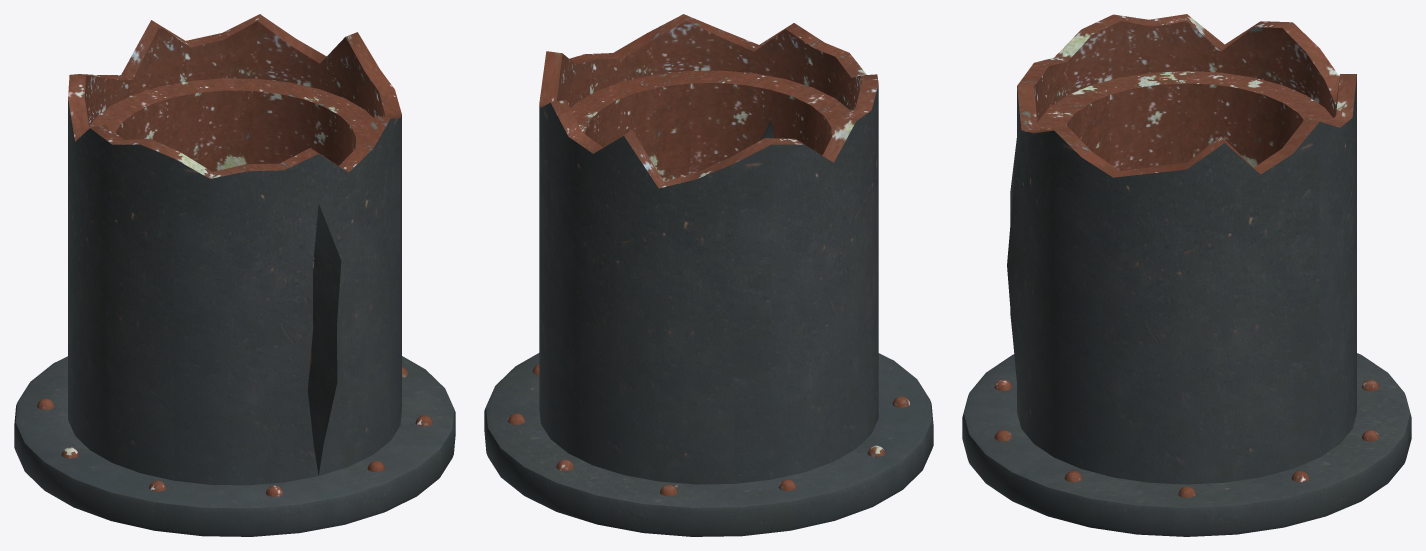
File: Powerplant_Model_Environment_BrokenStraightPipeTextured.fbx
3 renders of one model, left to right at view 1: azimuth 30°, elevation 25°; view 2: azimuth 150°, elevation 25°; view 3: azimuth 270°, elevation 25°, orthographic.
Parts seen in each view (by area): view 1: Straight Pipe; view 2: Straight Pipe; view 3: Straight Pipe.
Part boxes in pixels (left/top/right/bottom): Straight Pipe: left=14, top=14, right=455, bottom=536; Straight Pipe: left=484, top=14, right=933, bottom=536; Straight Pipe: left=962, top=14, right=1411, bottom=536.
Size of the model in its own units: 47.62 by 43.38 by 47.62.
2 materials, 2 textured.
